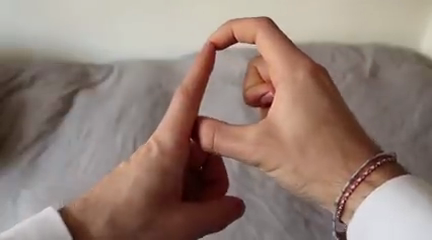D: (99, 6, 362, 239)
